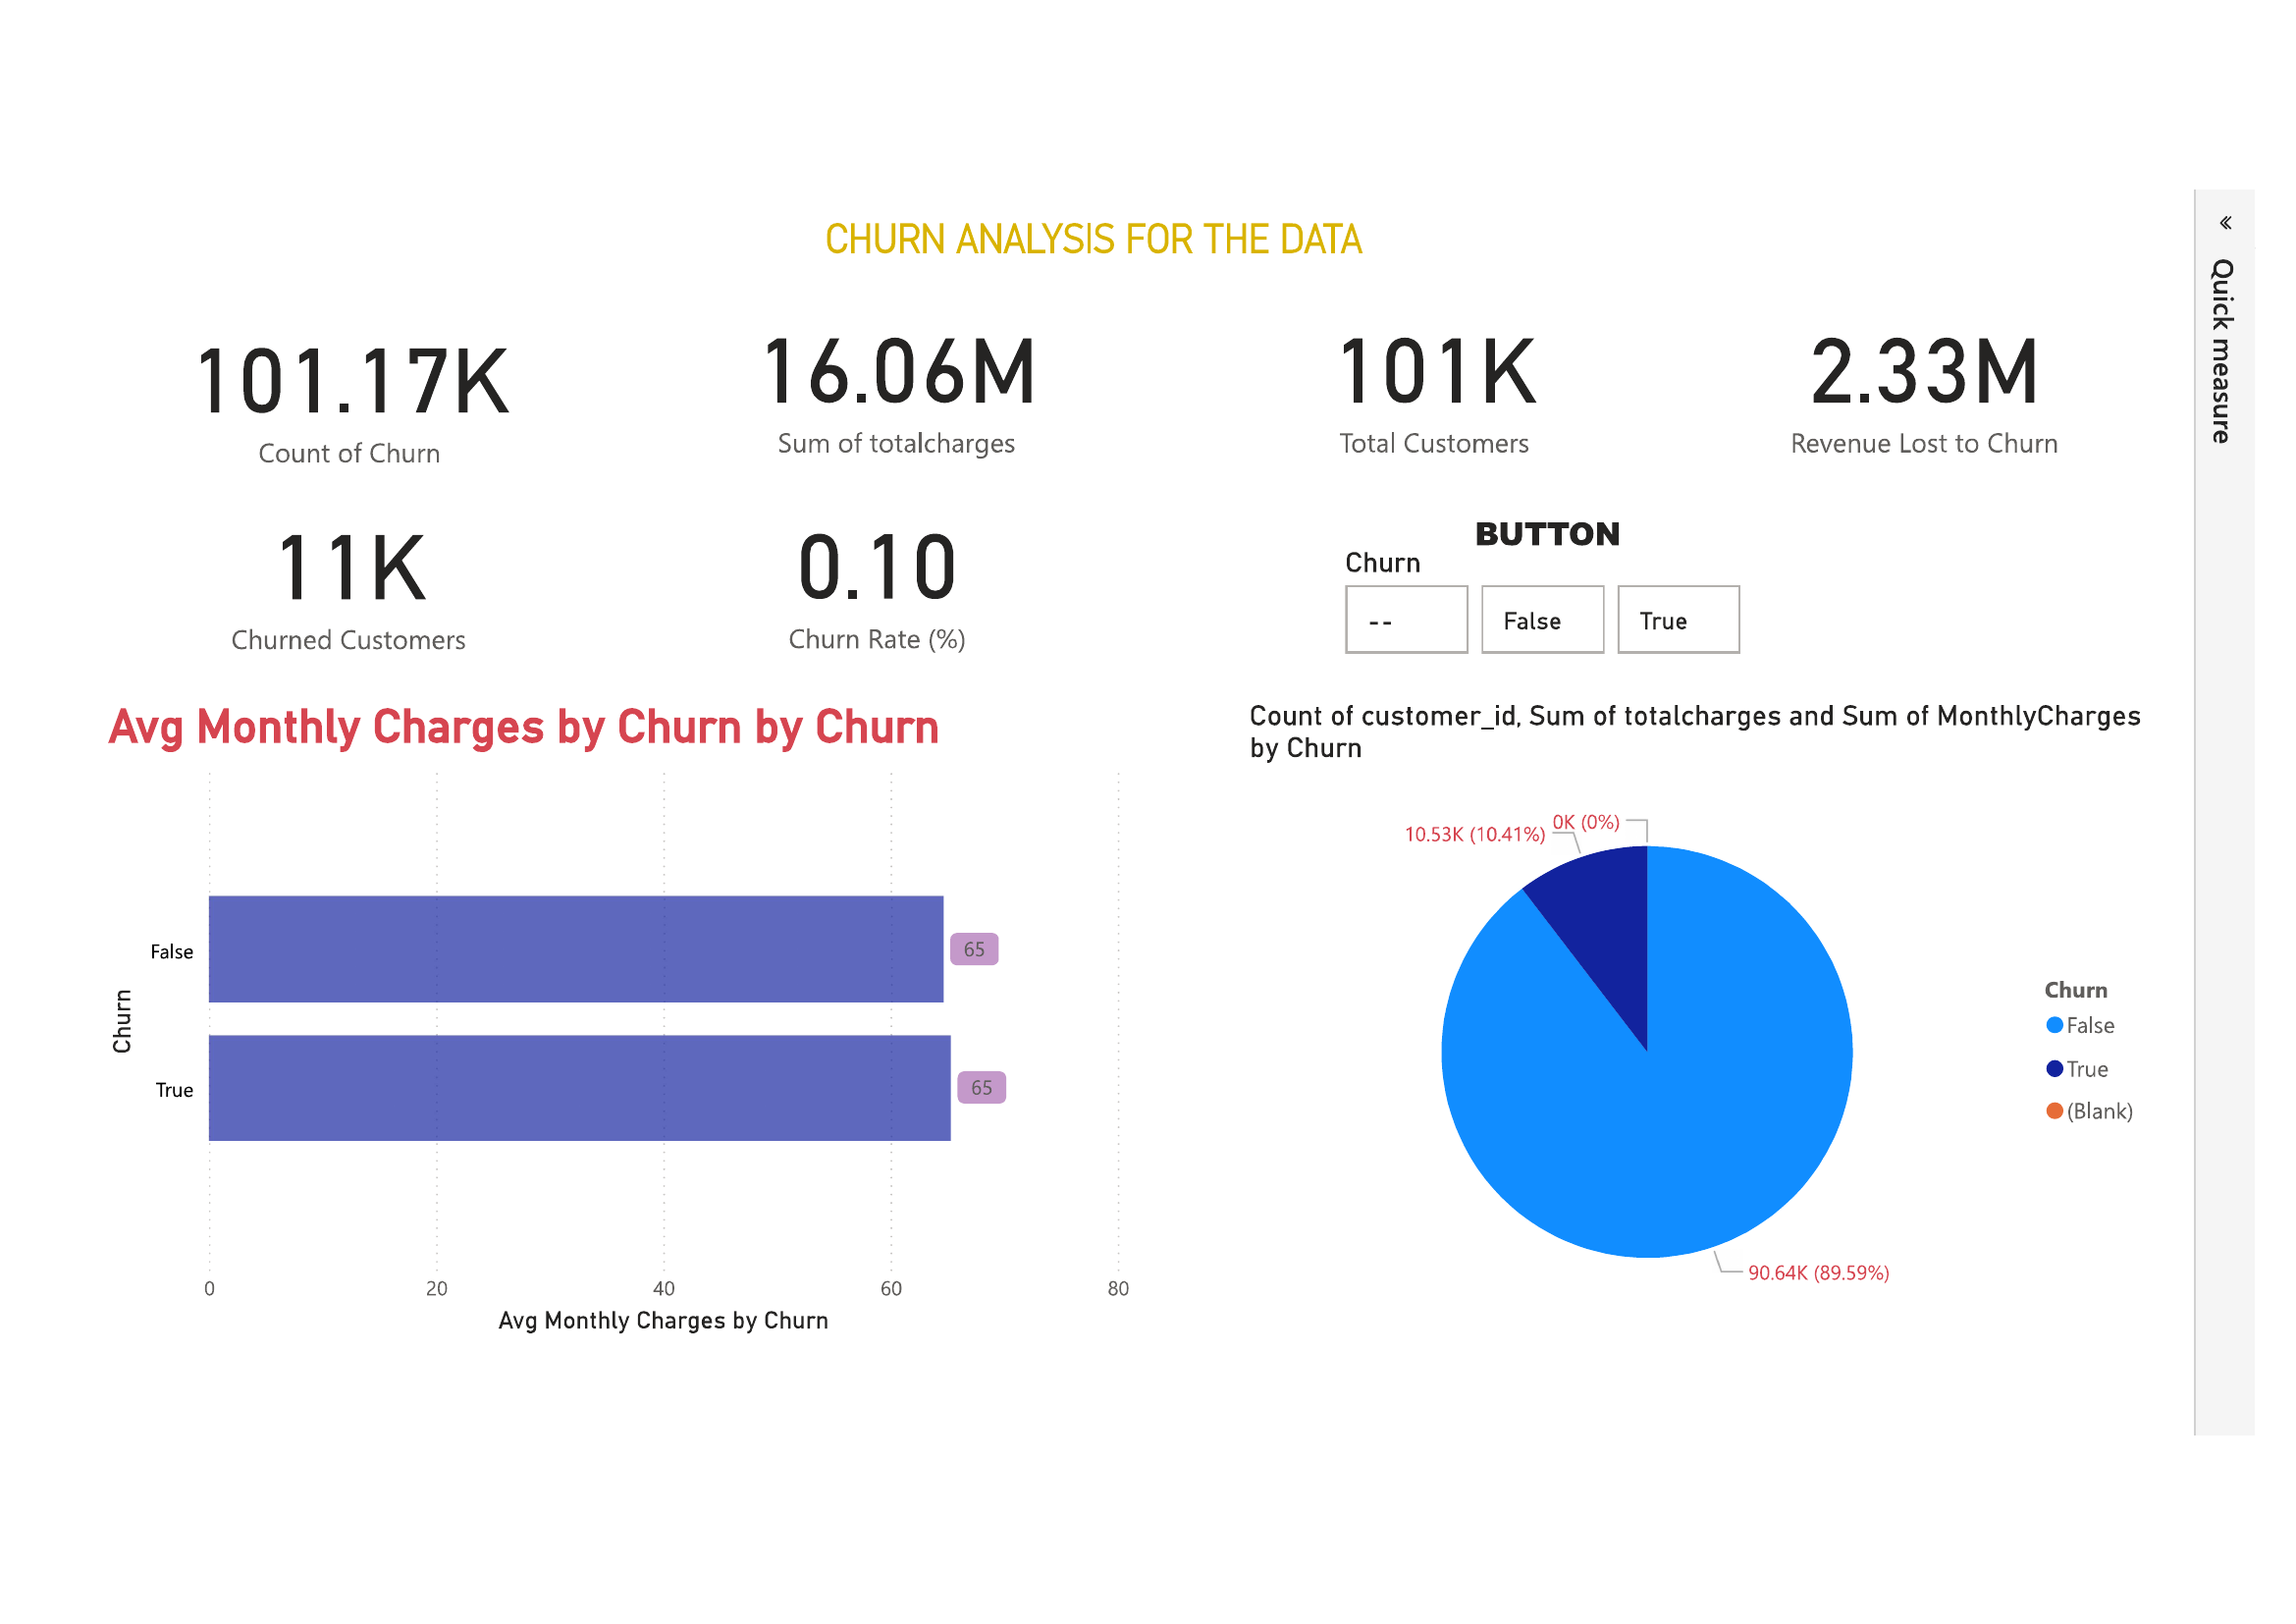

The dashboard page shown, as its layout file describes it:
{"tool":"powerbi","page":{"name":"churn_analysis","canvas":[1280,720],"ordinal":0},"visuals":[{"type":"card","fields":{"Values":["CountNonNull(project(dashboards).Churn)"]},"box":[0,37.9,365.3,138],"z":0},{"type":"card","fields":{"Values":["project(dashboards).Churned Customers"]},"box":[4.1,165.1,355.9,105.5],"z":1000},{"type":"card","fields":{"Values":["Sum(project(dashboards).totalcharges)"]},"box":[365.3,37.9,285.5,125.8],"z":2000},{"type":"card","fields":{"Values":["project(dashboards).Total Customers"]},"box":[640,37.9,376.2,125.8],"z":3000},{"type":"card","fields":{"Values":["project(dashboards).Churn Rate (%)"]},"box":[342.3,163.7,308.5,106.9],"z":4000},{"type":"card","fields":{"Values":["project(dashboards).Revenue Lost to Churn"]},"box":[959.3,37.9,320.7,125.8],"z":5000},{"type":"clusteredBarChart","fields":{"Y":["project(dashboards).Avg Monthly Charges by Churn"],"Category":["project(dashboards).Churn"]},"box":[33.8,292.3,618.4,382.9],"z":6000},{"type":"textbox","box":[365.3,0,520.9,37.9],"z":7000},{"type":"pieChart","fields":{"Category":["project(dashboards).Churn"],"Y":["CountNonNull(project(dashboards).customer_id)"]},"box":[713.1,292.3,545.3,382.9],"z":8000},{"type":"advancedSlicerVisual","fields":{"Values":["project(dashboards).Churn"]},"box":[770,201.2,246.2,70],"z":9000},{"type":"textbox","box":[837.5,175,121.2,41.2],"z":10000}]}

Visuals, with their boxes on the page's 1280x720 design canvas (x1, y1, x2, y2). These are canvas units, not pixel positions in the 2296x1624 screenshot, which may show the page scaled, cropped or inside an application window:
card - CountNonNull(project(dashboards).Churn): bbox=(0, 38, 365, 176)
card - project(dashboards).Churned Customers: bbox=(4, 165, 360, 271)
card - Sum(project(dashboards).totalcharges): bbox=(365, 38, 651, 164)
card - project(dashboards).Total Customers: bbox=(640, 38, 1016, 164)
card - project(dashboards).Churn Rate (%): bbox=(342, 164, 651, 271)
card - project(dashboards).Revenue Lost to Churn: bbox=(959, 38, 1280, 164)
clusteredBarChart - project(dashboards).Avg Monthly Charges by Churn x project(dashboards).Churn: bbox=(34, 292, 652, 675)
textbox: bbox=(365, 0, 886, 38)
pieChart - project(dashboards).Churn x CountNonNull(project(dashboards).customer_id): bbox=(713, 292, 1258, 675)
advancedSlicerVisual - project(dashboards).Churn: bbox=(770, 201, 1016, 271)
textbox: bbox=(838, 175, 959, 216)
